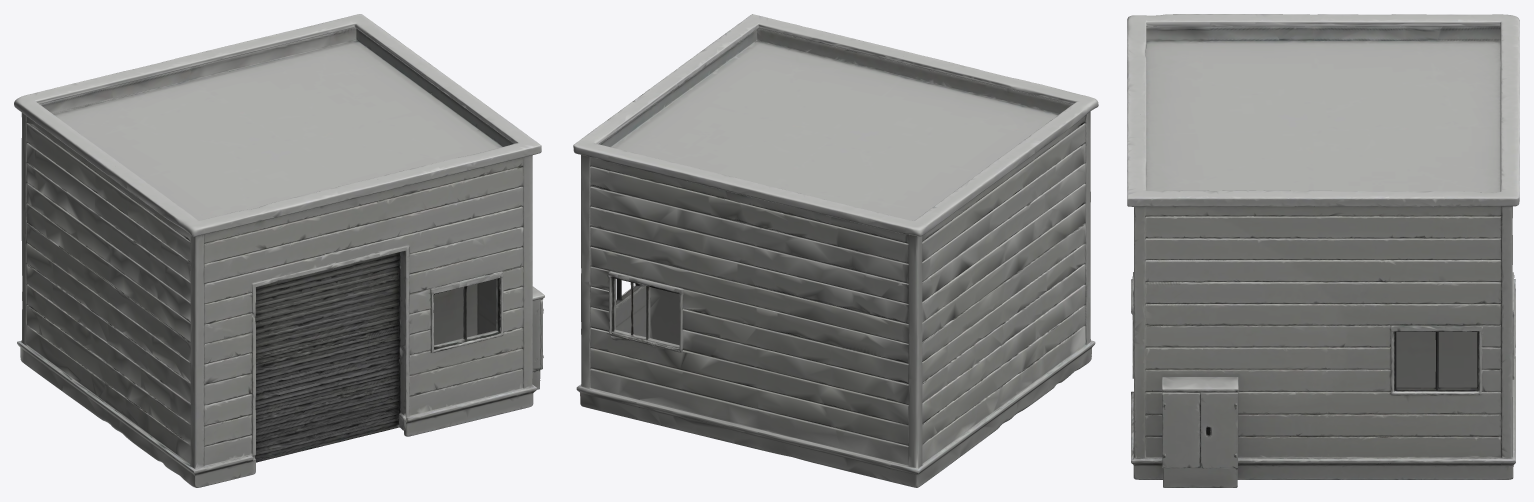
The model's file is batiment.glb.
3 renders of one model, left to right at view 1: azimuth 30°, elevation 25°; view 2: azimuth 150°, elevation 25°; view 3: azimuth 270°, elevation 25°, orthographic. The views are drawn at different scales.
Parts seen in each view (by area): view 1: tripo_node_23682dcd-d950-4d64-9d35-6aa0e951b9c1; view 2: tripo_node_23682dcd-d950-4d64-9d35-6aa0e951b9c1; view 3: tripo_node_23682dcd-d950-4d64-9d35-6aa0e951b9c1.
Boxes of the visible parts, box(x1,y1,x2,y2) form: tripo_node_23682dcd-d950-4d64-9d35-6aa0e951b9c1: box(14, 14, 544, 487); tripo_node_23682dcd-d950-4d64-9d35-6aa0e951b9c1: box(573, 14, 1098, 487); tripo_node_23682dcd-d950-4d64-9d35-6aa0e951b9c1: box(1127, 14, 1519, 487).
Bounding box in the file's own units: 0.9805 × 0.667 × 0.8335.
Materials: 1 (1 with a texture image).
